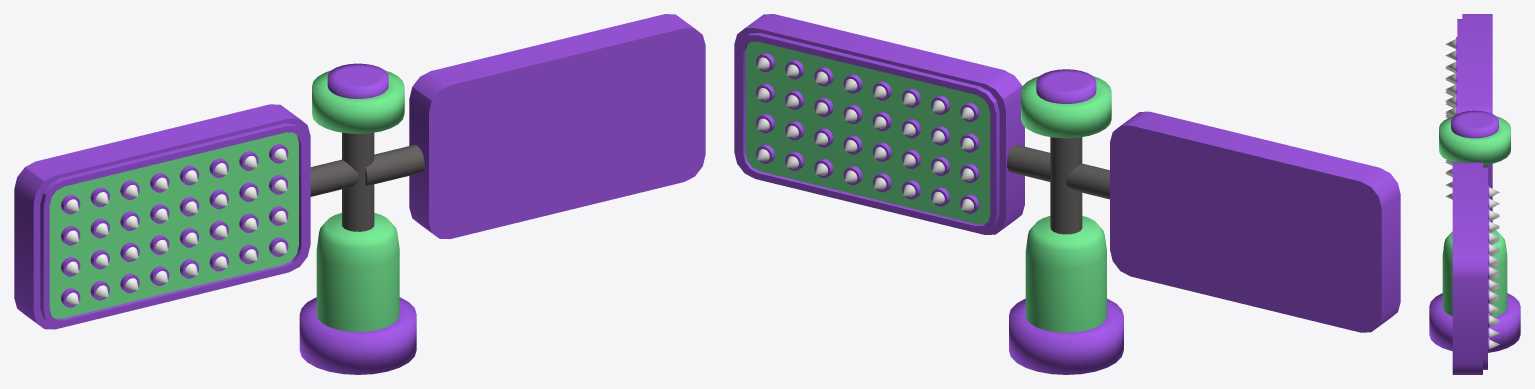
The model's file is Obstacle 14 V4.fbx.
3 renders of one model, left to right at view 1: azimuth 30°, elevation 25°; view 2: azimuth 150°, elevation 25°; view 3: azimuth 270°, elevation 25°, orthographic. The views are drawn at different scales.
Parts seen in each view (by area): view 1: O14 Part 1, O14 Part 2; view 2: O14 Part 1, O14 Part 2; view 3: O14 Part 1, O14 Part 2.
Part boxes in pixels (<box>): O14 Part 1: <box>14,14,705,329</box>; O14 Part 2: <box>299,63,416,374</box>; O14 Part 1: <box>734,14,1400,332</box>; O14 Part 2: <box>1009,69,1123,374</box>; O14 Part 1: <box>1445,14,1499,374</box>; O14 Part 2: <box>1429,110,1520,352</box>.
Size of the model in its own units: 296 by 116 by 45.05.
1 material, 1 textured.
